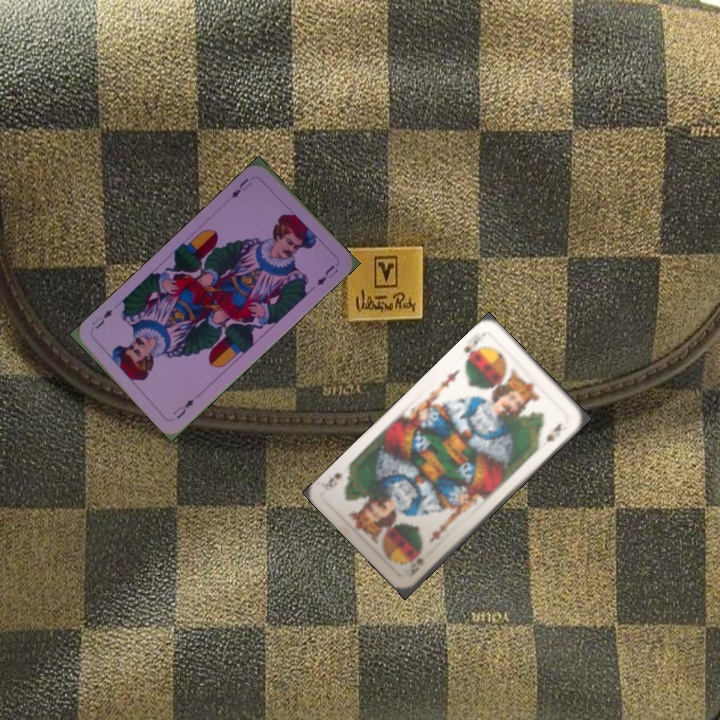EU: (169, 395, 197, 422), (227, 174, 254, 201)
SK: (459, 336, 485, 365), (406, 554, 426, 580)
